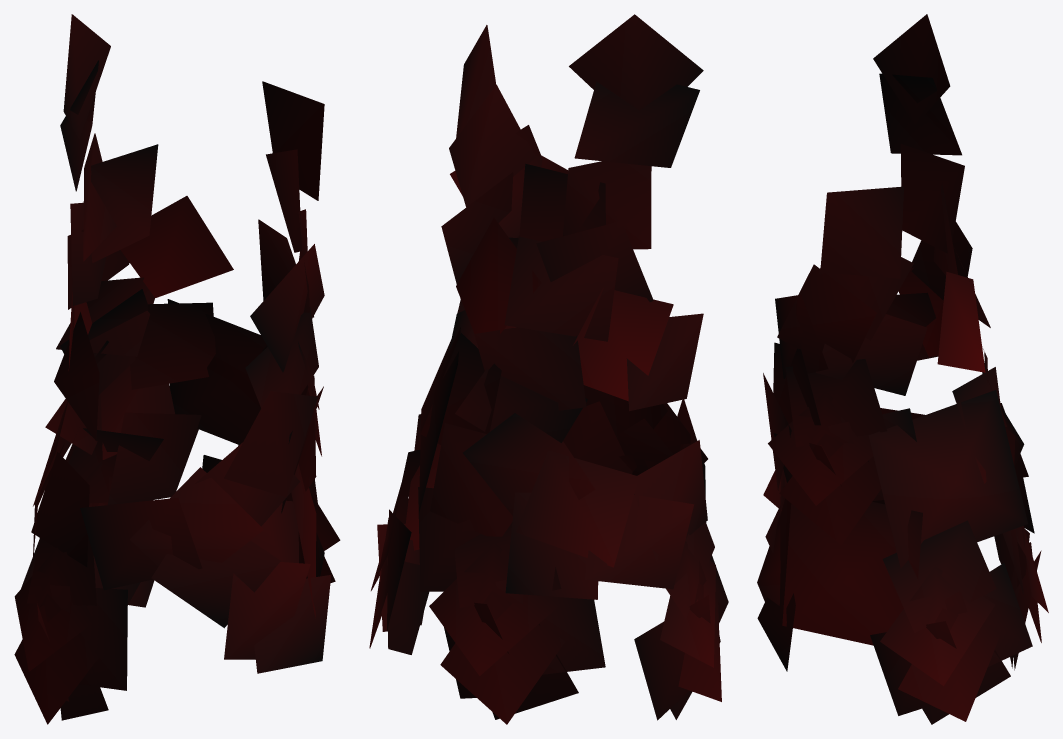
Rendered from TGV_Birch_Tree_02A_Ivy.fbx.
3 renders of one model, left to right at view 1: azimuth 30°, elevation 25°; view 2: azimuth 150°, elevation 25°; view 3: azimuth 270°, elevation 25°, orthographic. The views are drawn at different scales.
Parts seen in each view (by area): view 1: TGV_Birch_Tree_02A_Ivy_LOD0; view 2: TGV_Birch_Tree_02A_Ivy_LOD0; view 3: TGV_Birch_Tree_02A_Ivy_LOD0.
Boxes of the visible parts, box(x1,y1,x2,y2) form: TGV_Birch_Tree_02A_Ivy_LOD0: box(14, 14, 340, 724); TGV_Birch_Tree_02A_Ivy_LOD0: box(369, 14, 728, 724); TGV_Birch_Tree_02A_Ivy_LOD0: box(757, 14, 1048, 724).
Size of what is drawn, in the model's own units: 116 by 248 by 104.
